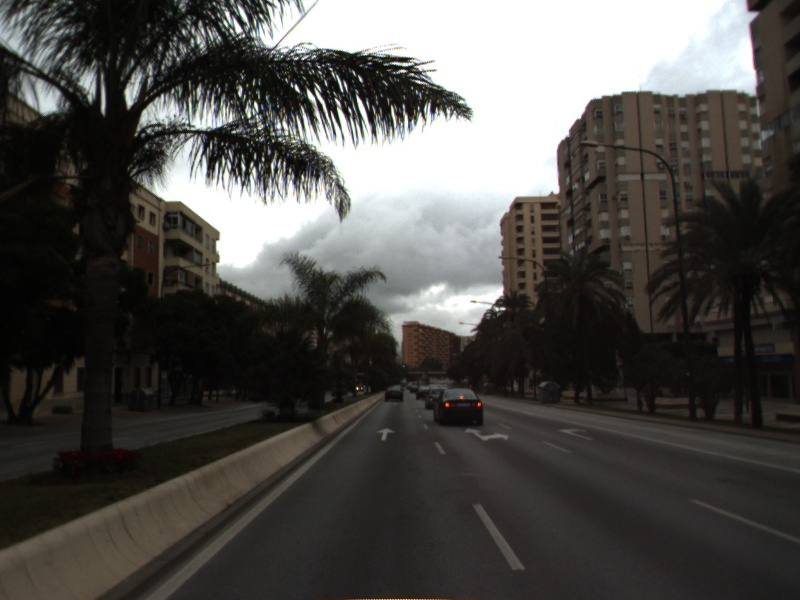RIGHT: (556, 425, 595, 442)
STRAIGHT: (375, 426, 397, 442)
STRAIGHT_RIGHT: (462, 425, 511, 443)
